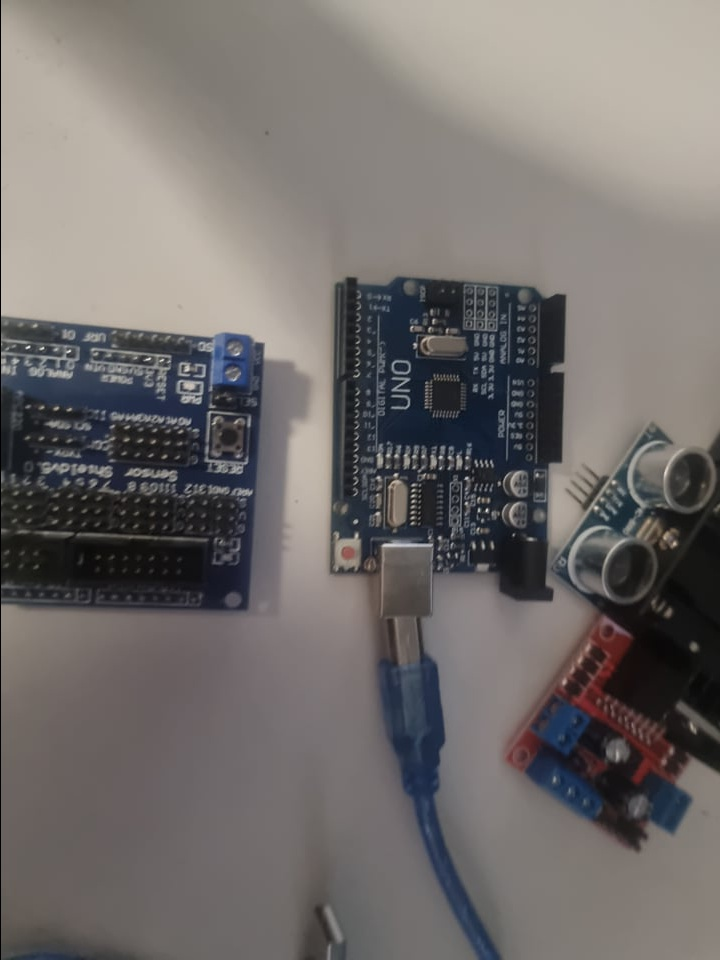5V EXPANSION: (0, 314, 266, 609)
MOTOR: (497, 622, 717, 856)
SENSOR: (556, 423, 714, 610)
UNO R3: (320, 268, 576, 622)
